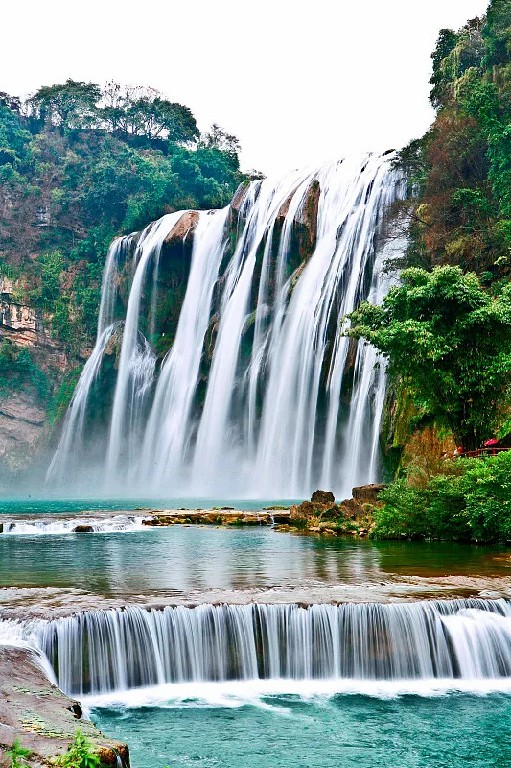Huangguoshu: (42, 148, 406, 499)
